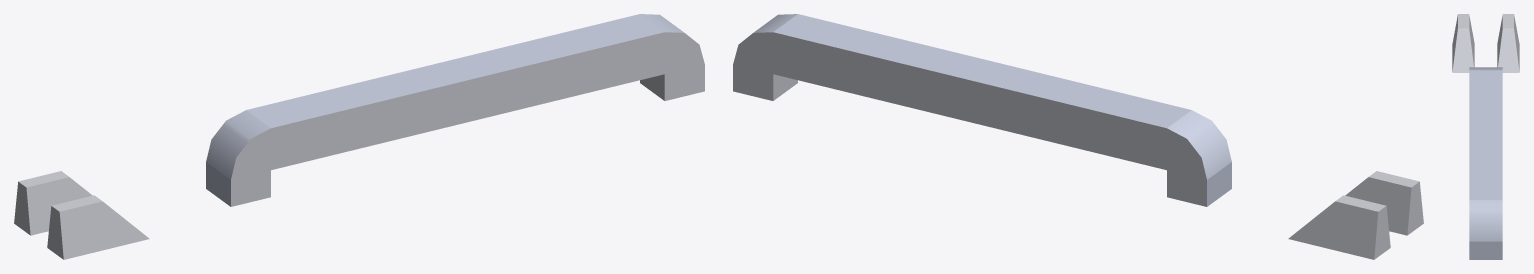
The model's file is Sight_A.fbx.
3 renders of one model, left to right at view 1: azimuth 30°, elevation 25°; view 2: azimuth 150°, elevation 25°; view 3: azimuth 270°, elevation 25°, orthographic. The views are drawn at different scales.
Visible parts, largest first — view 1: sights_a; view 2: sights_a; view 3: sights_a.
Boxes of the visible parts, box(x1,y1,x2,y2) form: sights_a: box(14, 14, 704, 259); sights_a: box(733, 14, 1423, 259); sights_a: box(1452, 14, 1519, 259).
Bounding box in the file's own units: 45.5 × 4.59 × 6.
